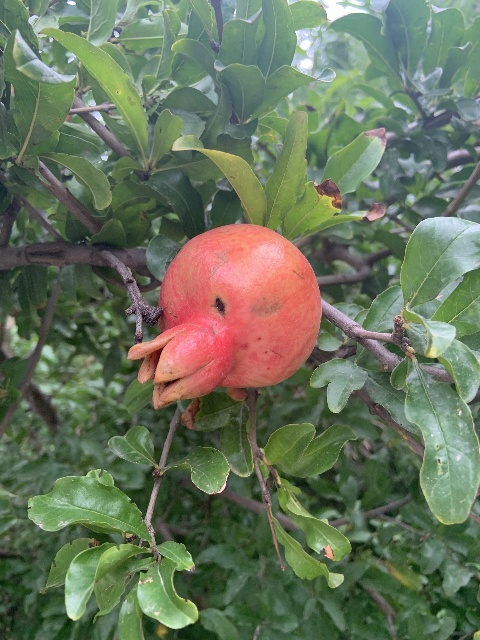ripe: (127, 223, 322, 409)
